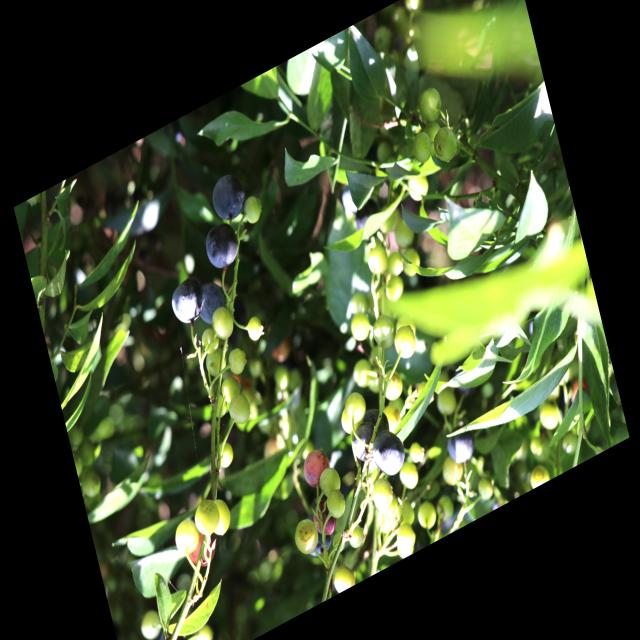blueberry: (206, 164, 253, 231), (165, 269, 211, 332), (200, 215, 245, 278), (367, 421, 410, 485), (192, 274, 230, 331), (300, 505, 336, 560), (443, 420, 480, 472), (348, 418, 384, 470), (350, 194, 384, 247), (360, 400, 392, 442)
blueberry-halfripe: (300, 444, 334, 492), (187, 532, 220, 574), (312, 497, 337, 540)
blueberry-unripe: (337, 389, 369, 438), (191, 496, 222, 542), (416, 86, 447, 132), (171, 514, 203, 558), (430, 123, 459, 167), (207, 495, 234, 541), (370, 312, 398, 353), (392, 320, 418, 362), (226, 390, 253, 430), (210, 304, 237, 344), (369, 475, 396, 515), (380, 364, 405, 405), (202, 344, 230, 379), (410, 128, 434, 168), (364, 242, 389, 280), (214, 436, 238, 473), (318, 465, 342, 502), (219, 371, 243, 406), (326, 488, 349, 523), (226, 343, 249, 377), (349, 312, 372, 344), (243, 194, 264, 228), (199, 324, 221, 354), (384, 273, 405, 304), (245, 314, 264, 342)
